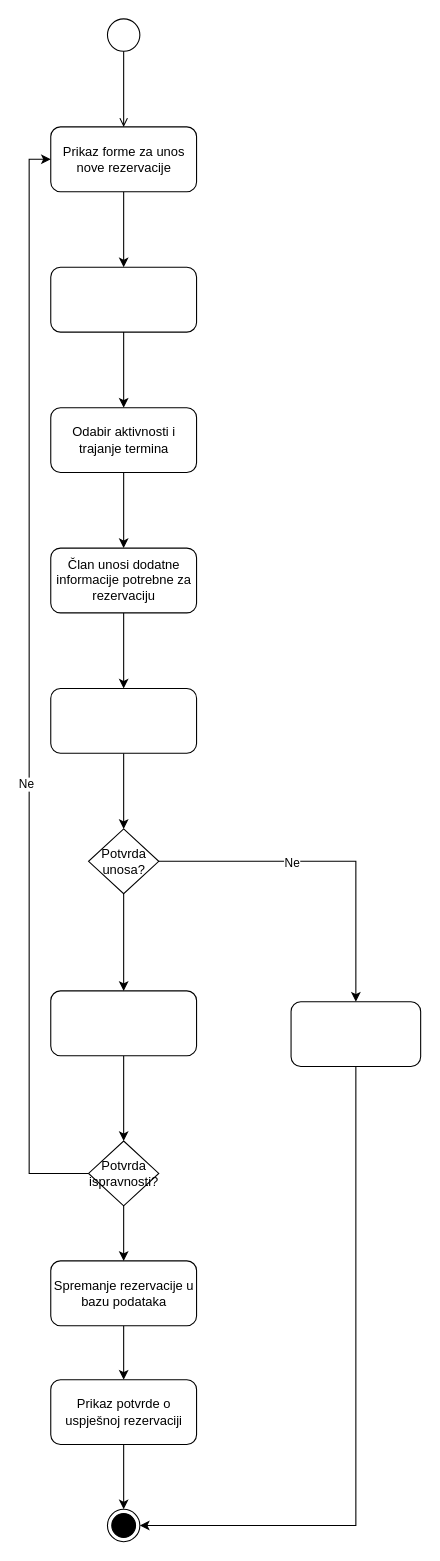
Image size: 440x1561. Some labels were removed from this diagram. The box of each missing label's shape, as (x1, y1, x2, y2) in pixels:
Potvrda unosa rezervacije: (50, 687, 197, 753)
Povratak na prethodni zaslon: (290, 1001, 421, 1066)
Provjera ispravnosti unesenih podataka: (50, 990, 197, 1056)
Sustav prikazuje popis termina i aktivnosti: (50, 266, 197, 332)
